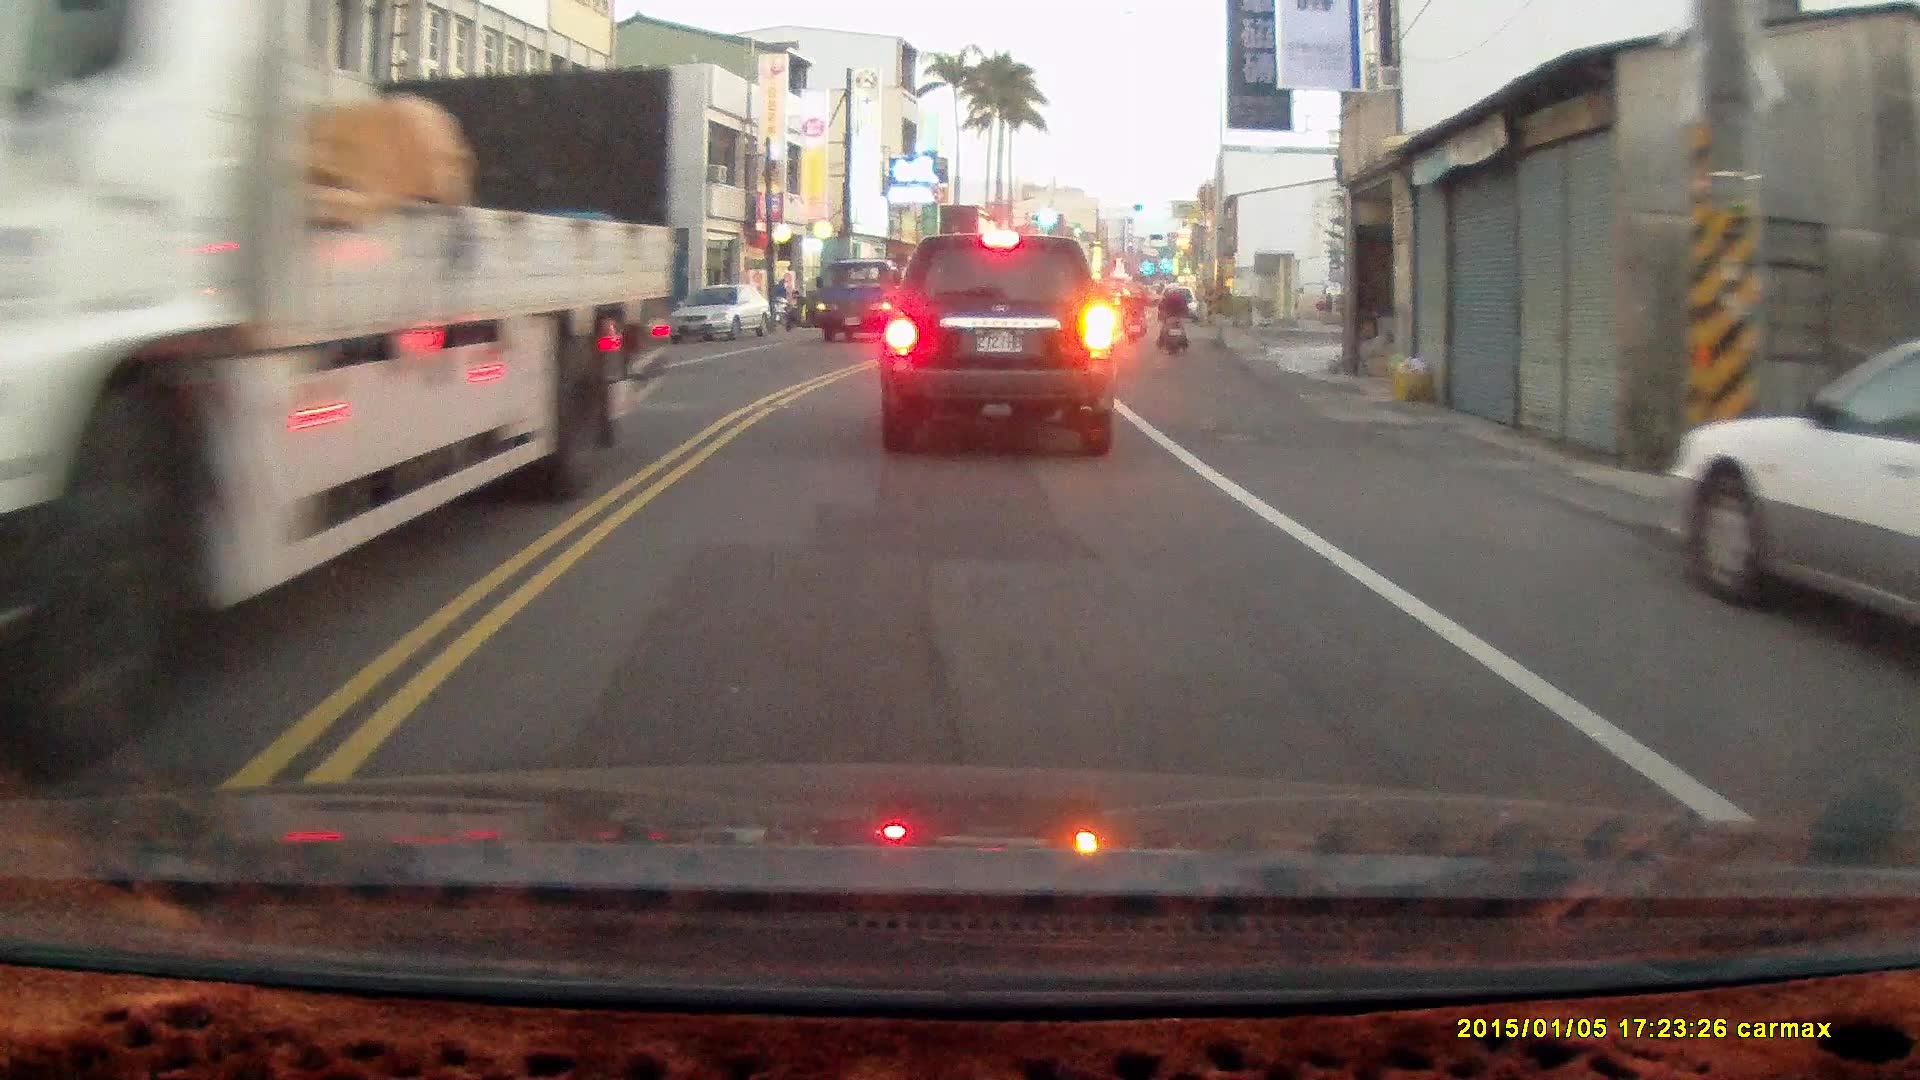rider: (1155, 279, 1186, 359), (1120, 285, 1146, 345)
vehicle: (3, 0, 662, 728), (1666, 348, 1920, 641), (877, 233, 1122, 460), (813, 257, 927, 346), (671, 283, 771, 343)
